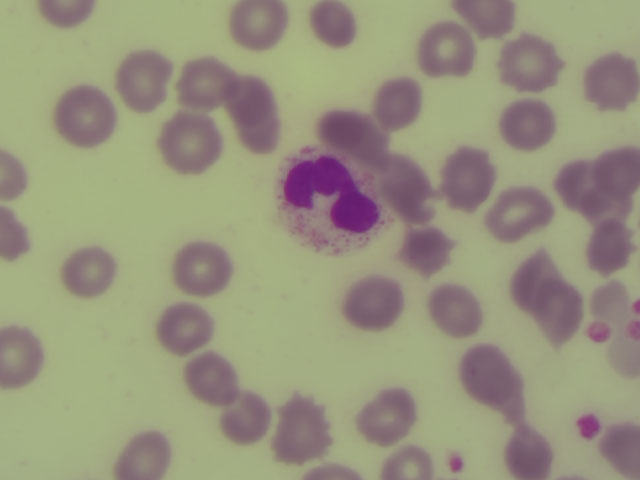Platelets: (579, 412, 600, 441), (586, 323, 609, 345), (450, 452, 465, 474)
RBC: (271, 394, 333, 462), (466, 348, 527, 413), (168, 239, 234, 297), (57, 88, 117, 150), (326, 112, 389, 171), (342, 275, 406, 330), (588, 51, 639, 116), (165, 115, 221, 171), (386, 153, 434, 217), (183, 352, 242, 404), (417, 23, 474, 76), (179, 57, 234, 111), (503, 36, 558, 90), (221, 388, 273, 445), (495, 189, 553, 240), (62, 245, 119, 296), (368, 383, 420, 438), (121, 54, 171, 110), (158, 304, 215, 351), (122, 427, 172, 480), (538, 287, 581, 346), (451, 145, 494, 203), (4, 326, 44, 388), (589, 219, 632, 276), (238, 3, 289, 51), (438, 282, 481, 337), (503, 104, 554, 150), (515, 253, 563, 298), (381, 82, 424, 131), (409, 229, 453, 276), (384, 444, 436, 480), (229, 114, 278, 152), (313, 3, 355, 45), (557, 163, 594, 210), (1, 208, 32, 263), (608, 146, 640, 198), (235, 79, 271, 122), (2, 156, 30, 197), (308, 465, 360, 480)
WBC: (273, 144, 392, 252)
